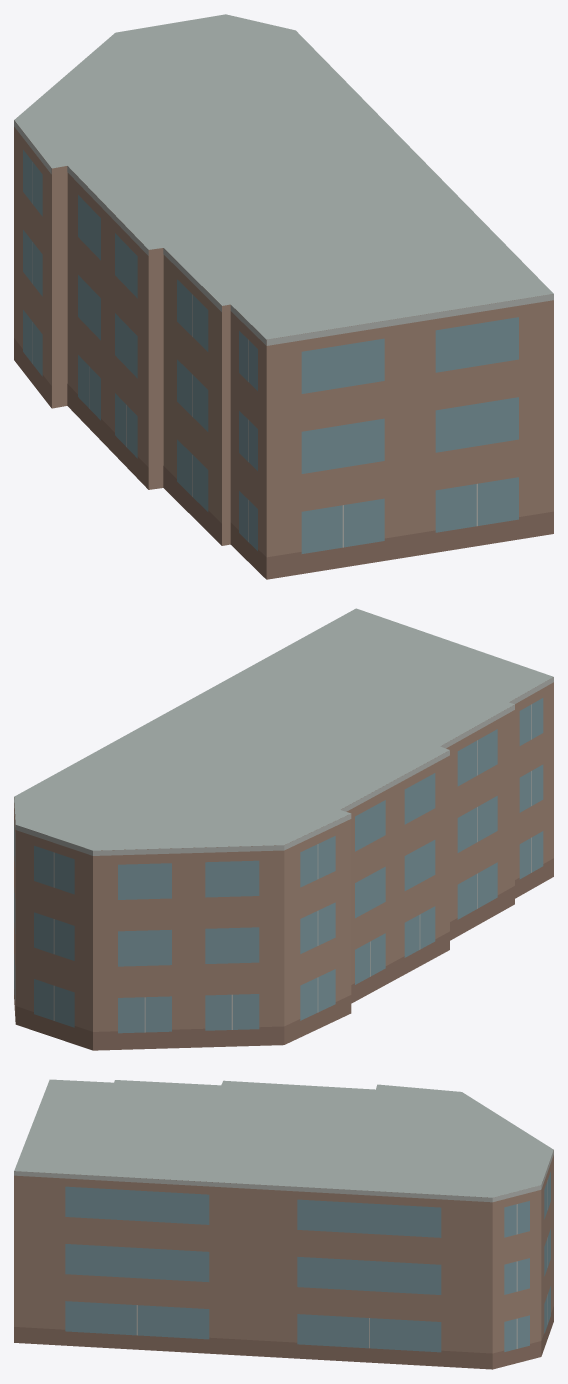
File: survey-upis-32935698.glb
3 renders of one model, top to bottom at view 1: azimuth 30°, elevation 25°; view 2: azimuth 150°, elevation 25°; view 3: azimuth 270°, elevation 25°, orthographic. The views are drawn at different scales.
Visible parts, largest first — view 1: survey-upis-32935698.tmp; view 2: survey-upis-32935698.tmp; view 3: survey-upis-32935698.tmp.
Part boxes in pixels (left/top/right/bottom): survey-upis-32935698.tmp: left=14, top=14, right=553, bottom=579; survey-upis-32935698.tmp: left=14, top=608, right=553, bottom=1050; survey-upis-32935698.tmp: left=14, top=1079, right=553, bottom=1369.
Bounding box in the file's own units: 13.52 × 9.15 × 26.07.
